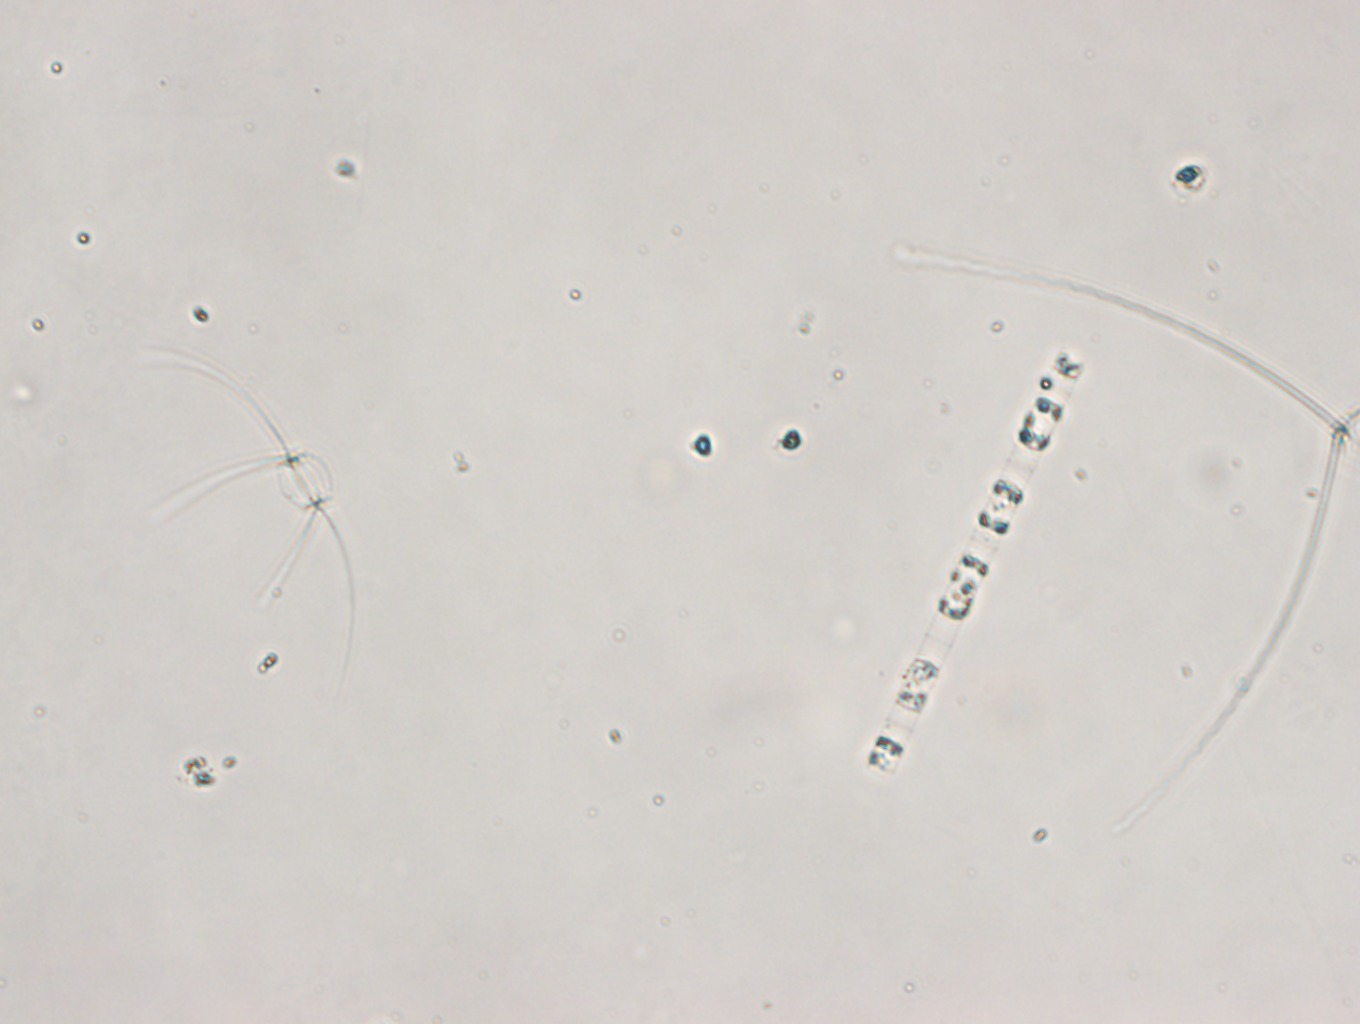chaetoceros: (135, 343, 357, 689)
skeletonema: (864, 345, 1087, 779)
